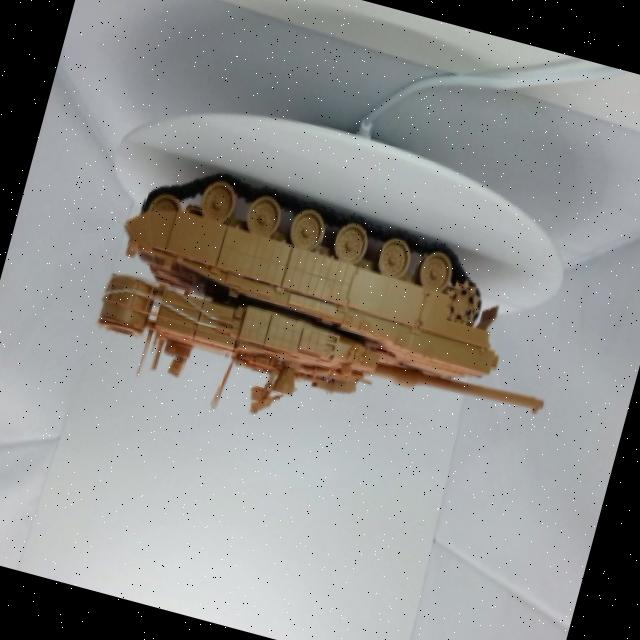korea tank: (71, 134, 595, 509)
